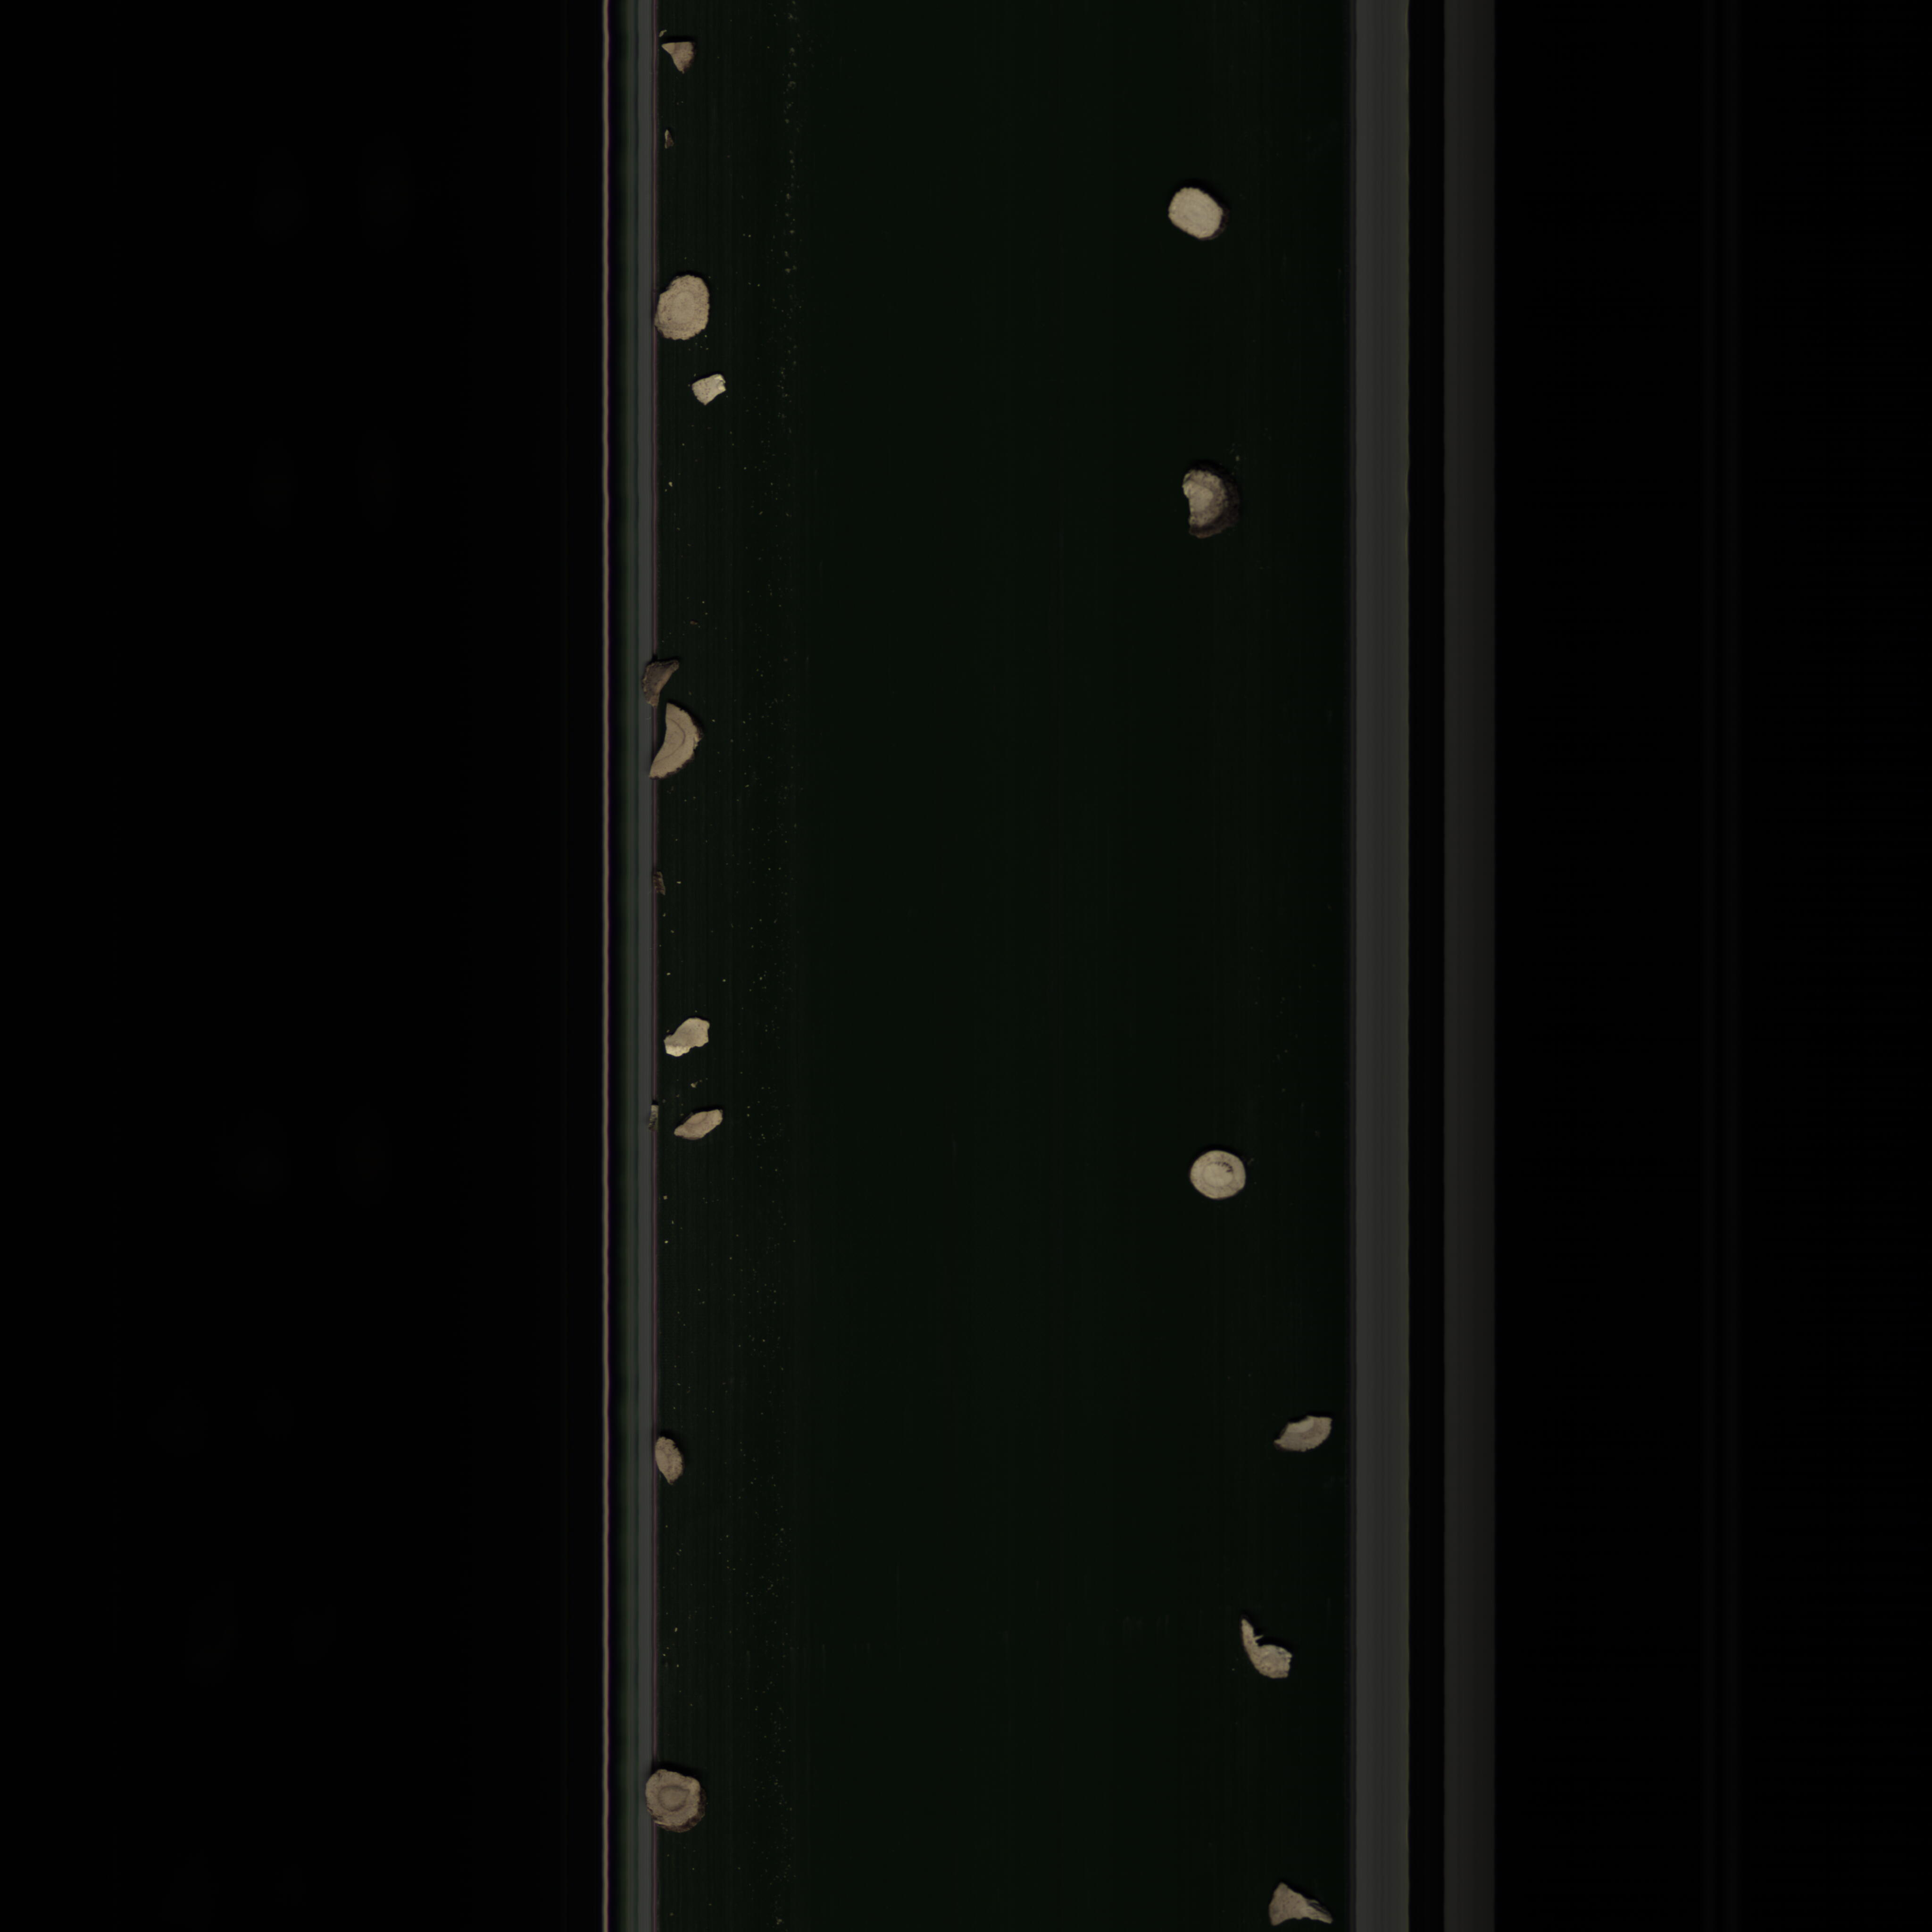bark: (1173, 464, 1249, 556), (635, 649, 685, 713)
debris: (1231, 1612, 1306, 1693), (653, 701, 704, 782), (1260, 1877, 1338, 1928), (671, 1102, 738, 1161), (662, 1010, 718, 1067), (1269, 1410, 1336, 1456), (649, 1430, 692, 1495), (658, 39, 702, 76), (686, 372, 732, 403)
moldy: (640, 1766, 722, 1836)
